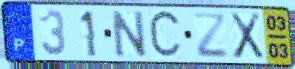1: (79, 9, 99, 58)
3: (37, 8, 67, 58)
C: (147, 8, 184, 62)
N: (109, 9, 149, 59)
X: (228, 11, 266, 61)
Z: (192, 11, 230, 60)
